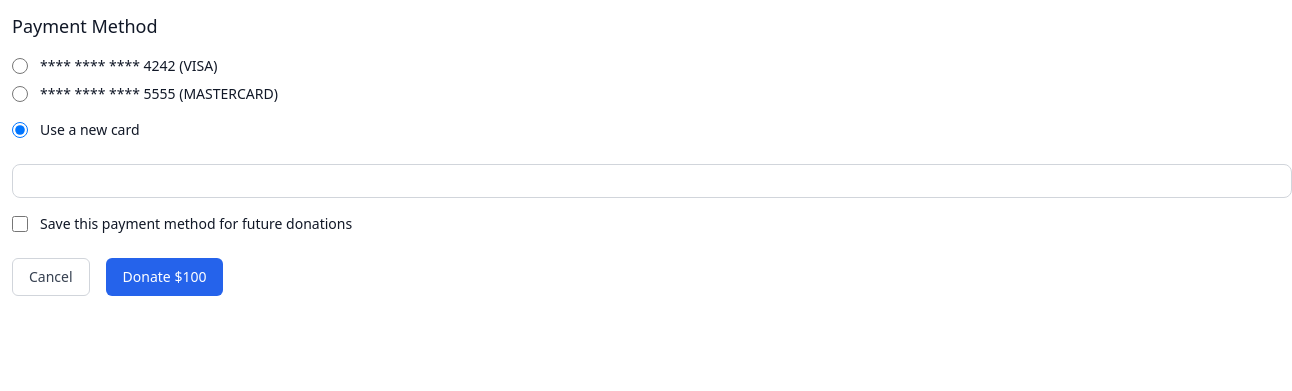
Test: PaymentForm › One-time Payment Processing › should handle payment processing errors
The width and height of the screenshot is (1292, 391).
Click the button "Donate $100" at (164, 277), box [106,258,223,296]
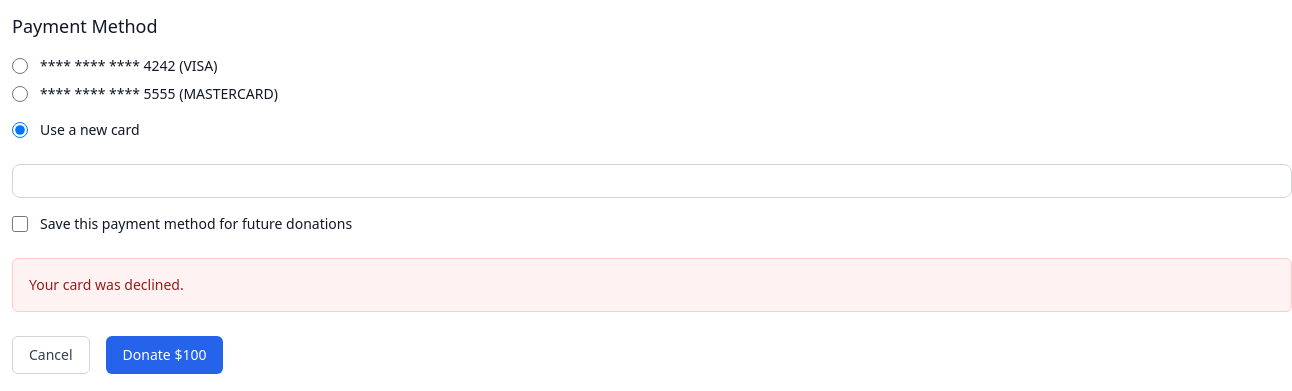
Check: the text "Your card was declined." is shown, box [29,275,184,294]
